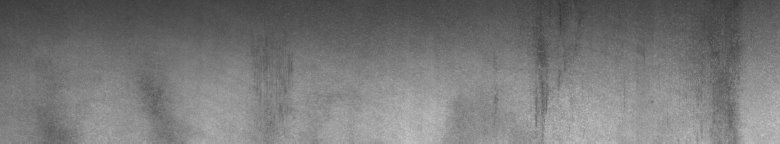ka: (491, 17, 562, 127)
